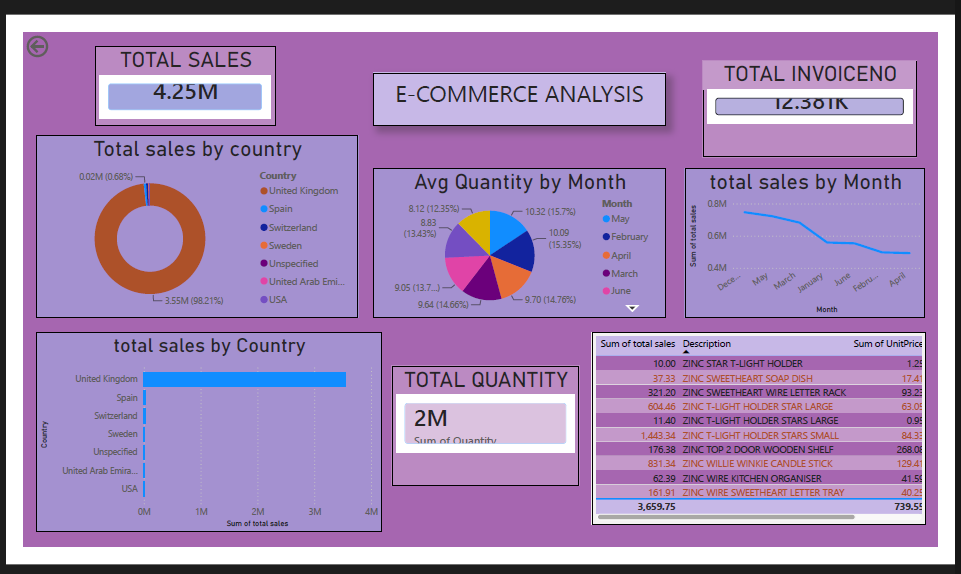

This screenshot's page, from the dashboard's own definition file:
{"tool":"powerbi","page":{"name":"Page 1","canvas":[1280,720],"ordinal":0},"visuals":[{"type":"lineChart","title":"total sales by Month","fields":{"Category":["cleaned_Ecommerce (2).Month"],"Y":["Sum(cleaned_Ecommerce (2).total sales)"]},"box":[925.6,191.5,336,208.3],"z":0},{"type":"cardVisual","title":"TOTAL SALES","fields":{"Data":["Sum(cleaned_Ecommerce (2).total sales)"]},"box":[100.8,20.2,252,110.9],"z":1000},{"type":"cardVisual","title":"TOTAL QUANTITY","fields":{"Data":["Sum(cleaned_Ecommerce (2).Quantity)"]},"box":[515.7,467,262,168],"z":2000},{"type":"cardVisual","title":"TOTAL INVOICENO","fields":{"Data":["Count(cleaned_Ecommerce (2).InvoiceNo)"]},"box":[950.8,40.3,299,134.4],"z":3000},{"type":"clusteredBarChart","title":" total sales by Country","fields":{"Category":["cleaned_Ecommerce (2).Country"],"Y":["Sum(cleaned_Ecommerce (2).total sales)"]},"box":[18.5,419.9,483.8,278.8],"z":4000},{"type":"donutChart","title":"Total sales by country","fields":{"Category":["cleaned_Ecommerce (2).Country"],"Y":["Sum(cleaned_Ecommerce (2).total sales)"]},"box":[18.5,144.5,450.2,255.3],"z":5000},{"type":"tableEx","fields":{"Values":["Sum(cleaned_Ecommerce (2).total sales)","cleaned_Ecommerce (2).Description","Sum(cleaned_Ecommerce (2).UnitPrice)","Sum(cleaned_Ecommerce (2).Quantity)"]},"box":[796.2,419.9,467,268.8],"z":6000},{"type":"actionButton","box":[0,0,100,40],"z":7000},{"type":"pieChart","title":"Avg Quantity by Month","fields":{"Category":["cleaned_Ecommerce (2).Month"],"Y":["Avg(cleaned_Ecommerce (2).Quantity)"]},"box":[490.5,191.5,408.2,208.3],"z":8000},{"type":"textbox","box":[490.5,57.1,408.2,73.9],"z":8001}]}

Visuals, with their boxes on the page's 1280x720 design canvas (x1, y1, x2, y2). These are canvas units, not pixel positions in the 961x574 screenshot, which may show the page scaled, cropped or inside an application window:
"total sales by Month" lineChart: bbox(926, 192, 1262, 400)
"TOTAL SALES" cardVisual: bbox(101, 20, 353, 131)
"TOTAL QUANTITY" cardVisual: bbox(516, 467, 778, 635)
"TOTAL INVOICENO" cardVisual: bbox(951, 40, 1250, 175)
" total sales by Country" clusteredBarChart: bbox(18, 420, 502, 699)
"Total sales by country" donutChart: bbox(18, 144, 469, 400)
tableEx - Sum(cleaned_Ecommerce (2).total sales) x cleaned_Ecommerce (2).Description: bbox(796, 420, 1263, 689)
actionButton: bbox(0, 0, 100, 40)
"Avg Quantity by Month" pieChart: bbox(490, 192, 899, 400)
textbox: bbox(490, 57, 899, 131)
